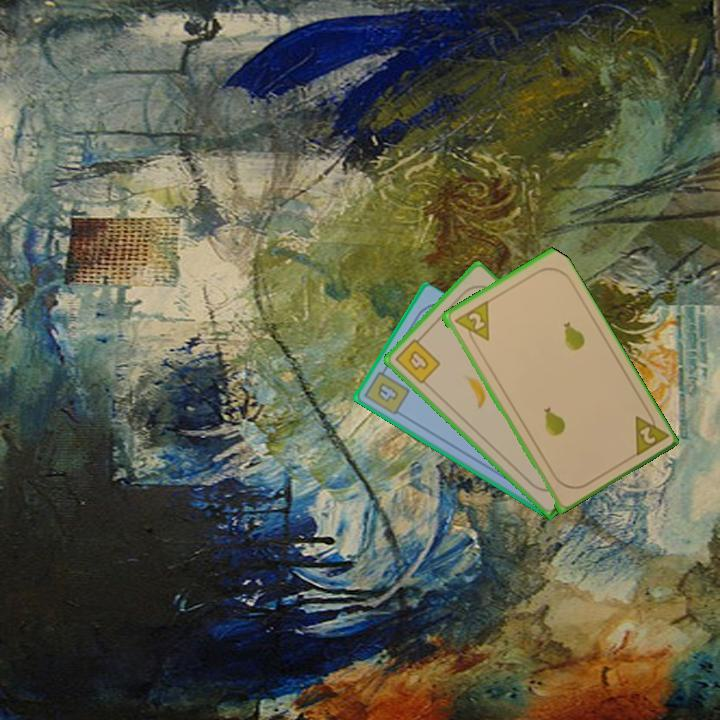2p: (629, 405, 670, 460), (450, 298, 492, 349)
4b: (391, 332, 443, 387), (361, 363, 412, 418)
